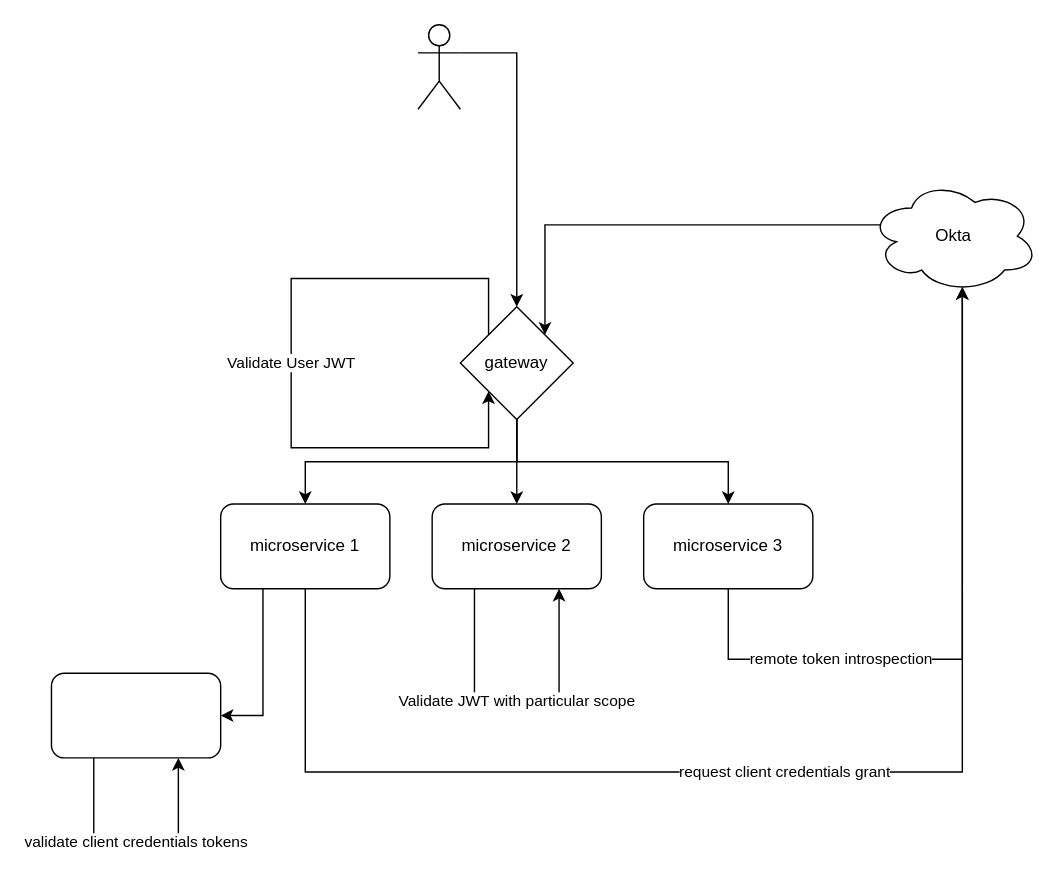
Some shapes in this 1063 by 878 pixel diagram are drawn without their labels. The centre of each missing label's shape, as x and y in pixels:
microservice 4: point (135, 715)
user: point (438, 66)
